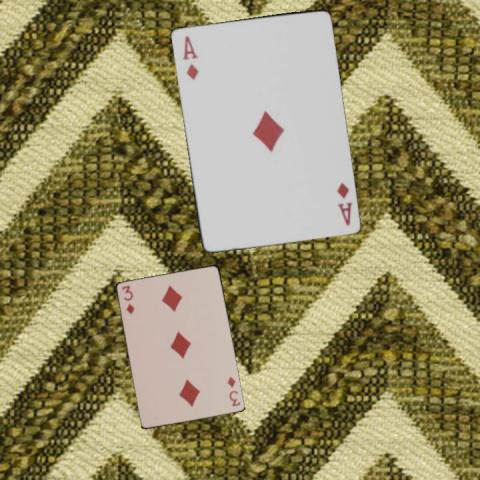3d: (225, 374, 242, 408), (119, 283, 136, 316)
Ad: (333, 180, 354, 228), (180, 32, 199, 81)
